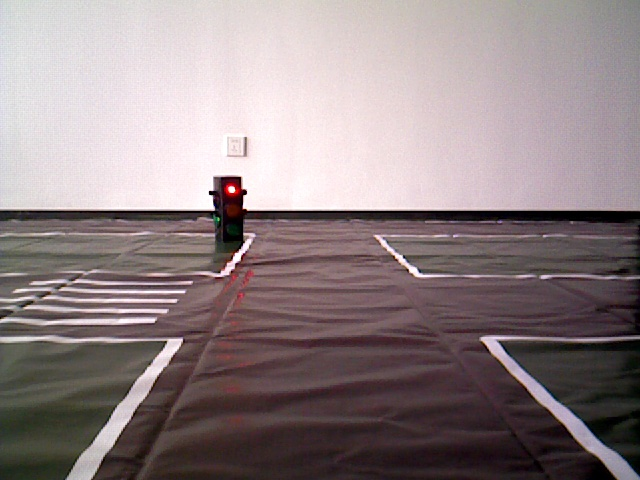red: (213, 176, 241, 240)
